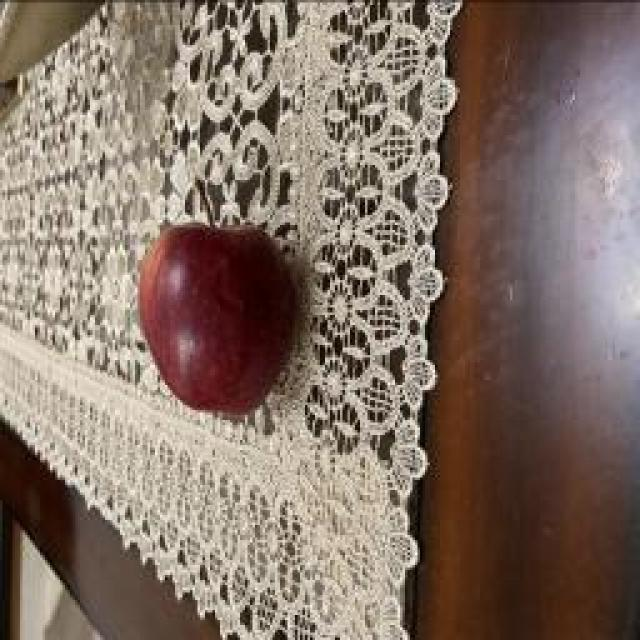apple: (140, 224, 298, 414)
